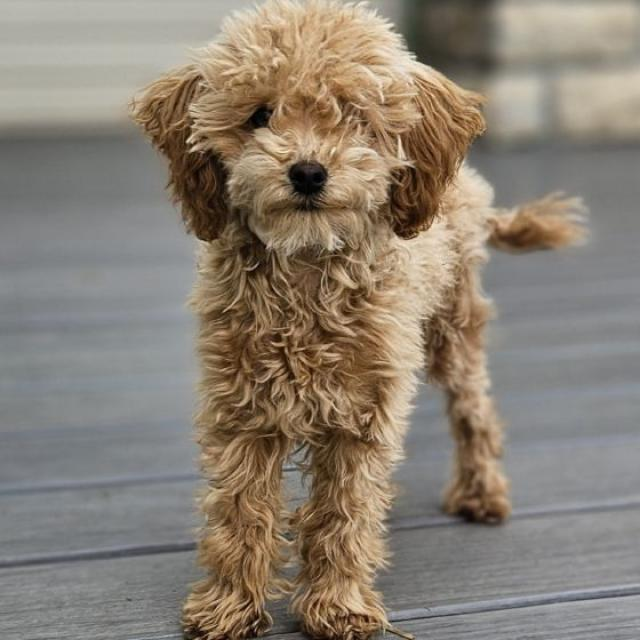Poodle_dog: (128, 5, 494, 289)
